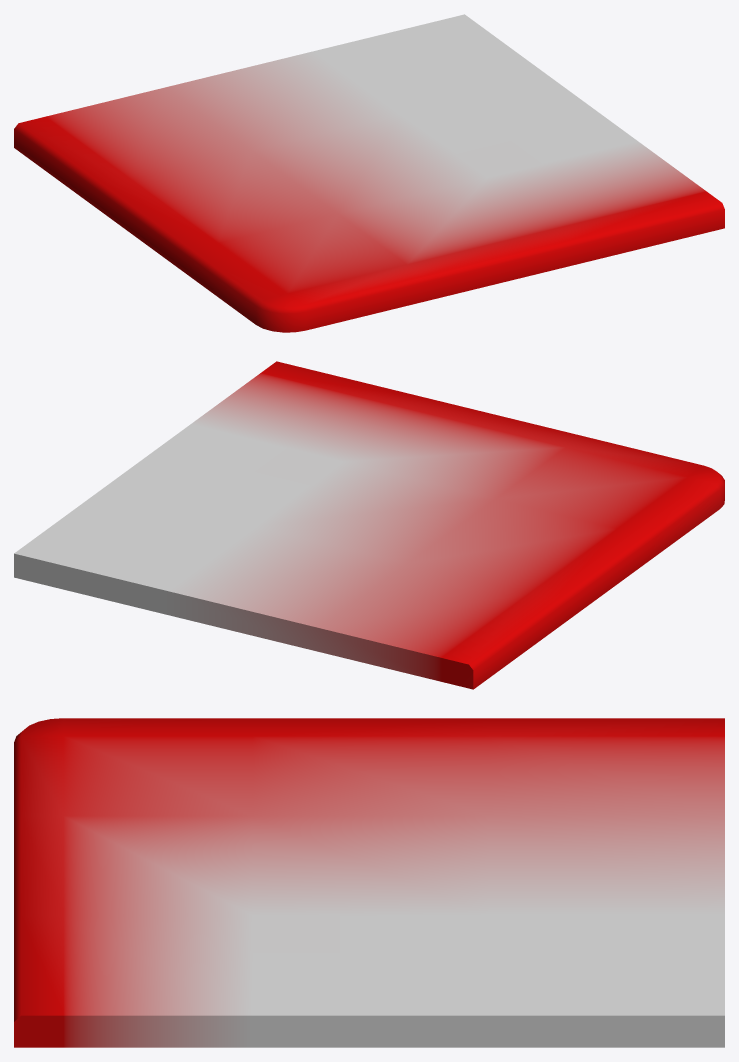
Rendered from Sidewalk_Corner_Flat_3m.gltf.
3 views of the same model, one above another, from view 1: azimuth 30°, elevation 25°; view 2: azimuth 150°, elevation 25°; view 3: azimuth 270°, elevation 25° (orthographic). The views are drawn at different scales.
Parts seen in each view (by area): view 1: Sidewalk_Corner_Flat_3m; view 2: Sidewalk_Corner_Flat_3m; view 3: Sidewalk_Corner_Flat_3m.
Boxes of the visible parts, x1,y1,x2,y2 form: Sidewalk_Corner_Flat_3m: (14,14,724,332); Sidewalk_Corner_Flat_3m: (14,361,724,689); Sidewalk_Corner_Flat_3m: (14,718,724,1047).
Bounding box in the file's own units: 3.01 × 0.15 × 3.01.
